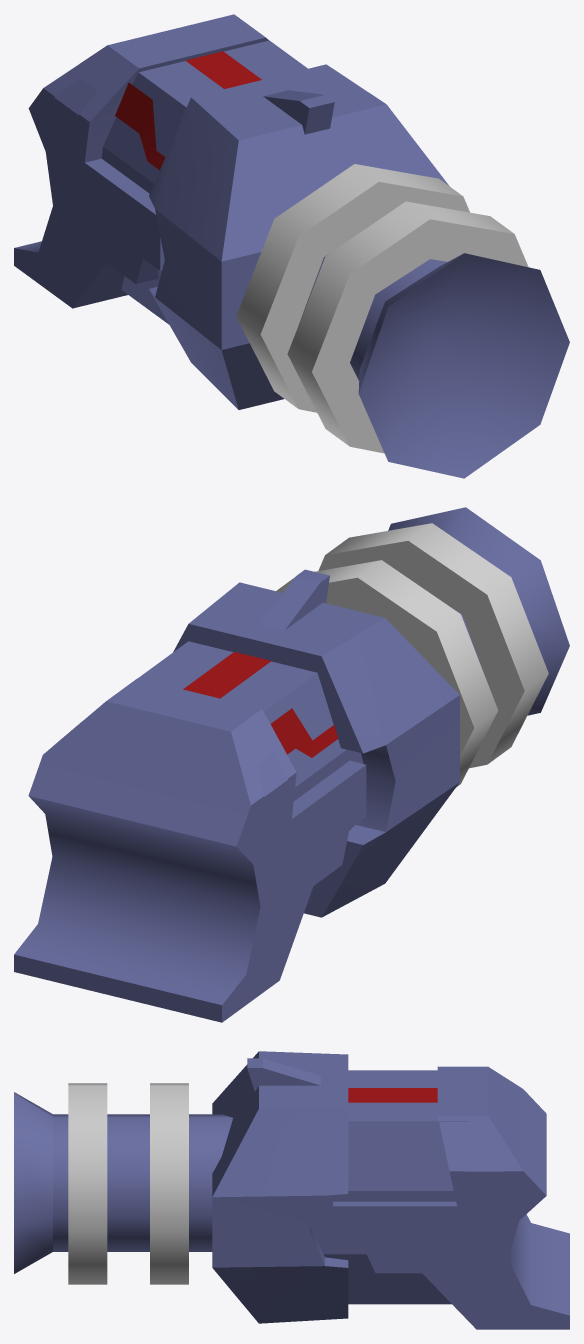
File: MiningLaser Level 2.obj
3 views of the same model, one above another, from view 1: azimuth 30°, elevation 25°; view 2: azimuth 150°, elevation 25°; view 3: azimuth 270°, elevation 25° (orthographic). The views are drawn at different scales.
Parts seen in each view (by area): view 1: MiningLaser_LV2_Mesh_0105.001; view 2: MiningLaser_LV2_Mesh_0105.001; view 3: MiningLaser_LV2_Mesh_0105.001.
Part boxes in pixels (left/top/right/bottom): MiningLaser_LV2_Mesh_0105.001: left=14, top=14, right=569, bottom=478; MiningLaser_LV2_Mesh_0105.001: left=14, top=507, right=569, bottom=1022; MiningLaser_LV2_Mesh_0105.001: left=14, top=1051, right=569, bottom=1329.
Size of the model in its own units: 0.961 by 1.11 by 2.41.
